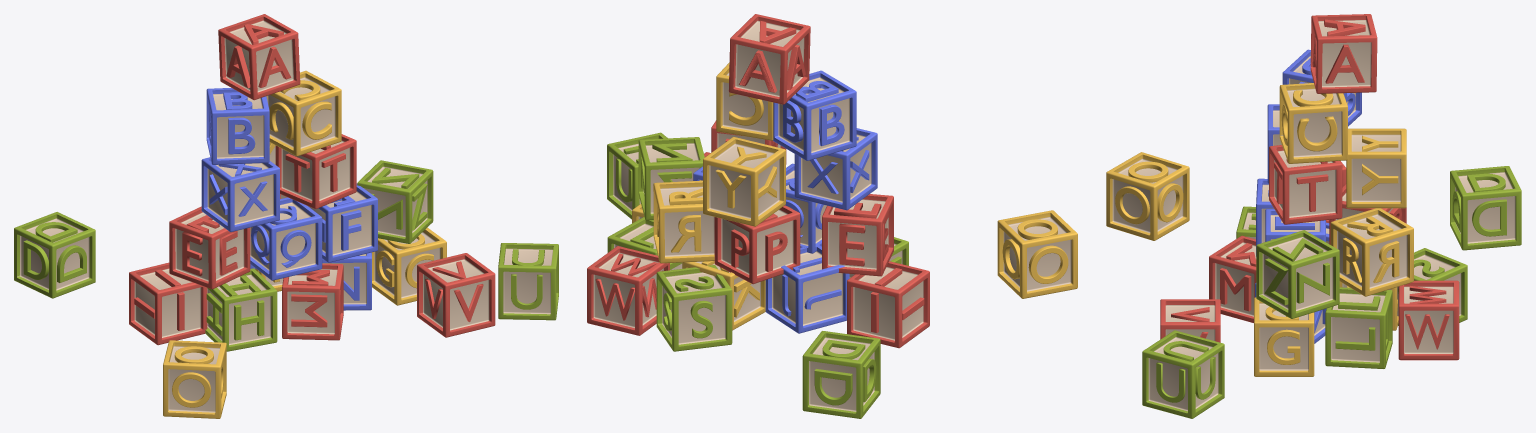
Rendered from ABCcubes1.fbx.
The picture shows the model from 3 angles, left to right: view 1: azimuth 30°, elevation 25°; view 2: azimuth 150°, elevation 25°; view 3: azimuth 270°, elevation 25°; orthographic projection. The views are drawn at different scales.
Visible parts, largest first — view 1: D, A, V, I, E, X, C, O, H, U, Q, Z (+6 smaller); view 2: Y, A, O, D, I, S, B, W, J, E, P, X (+8 smaller); view 3: Z, O, U, R, D, A, C, W, L, Y, T, G (+10 smaller).
Part boxes in pixels (x1,y1,x2,y2): D: (14, 212, 95, 298); A: (218, 14, 300, 100); V: (417, 253, 495, 337); I: (129, 262, 207, 345); E: (169, 206, 250, 289); X: (201, 157, 279, 231); C: (266, 70, 341, 156); O: (163, 340, 226, 418); H: (205, 268, 277, 351); U: (498, 243, 558, 320); Q: (250, 197, 322, 280); Z: (357, 160, 433, 243); Y: (703, 137, 785, 226); A: (728, 14, 810, 104); O: (997, 210, 1077, 298); D: (802, 331, 880, 418); I: (847, 261, 929, 348); S: (656, 265, 732, 351); B: (773, 70, 856, 160); W: (587, 246, 669, 335); J: (765, 245, 849, 333); E: (822, 194, 893, 276); P: (714, 205, 800, 284); X: (794, 128, 877, 210); Z: (1256, 230, 1339, 318); O: (1106, 152, 1189, 240); U: (1142, 330, 1224, 418); R: (1330, 208, 1413, 296); D: (1450, 166, 1521, 250); A: (1310, 14, 1377, 93); C: (1279, 83, 1347, 163); W: (1398, 280, 1459, 360); L: (1325, 287, 1392, 368); Y: (1346, 128, 1406, 208); T: (1269, 145, 1342, 224); G: (1254, 297, 1314, 376).
Bounding box in the file's own units: 19059 × 11670 × 15714.
